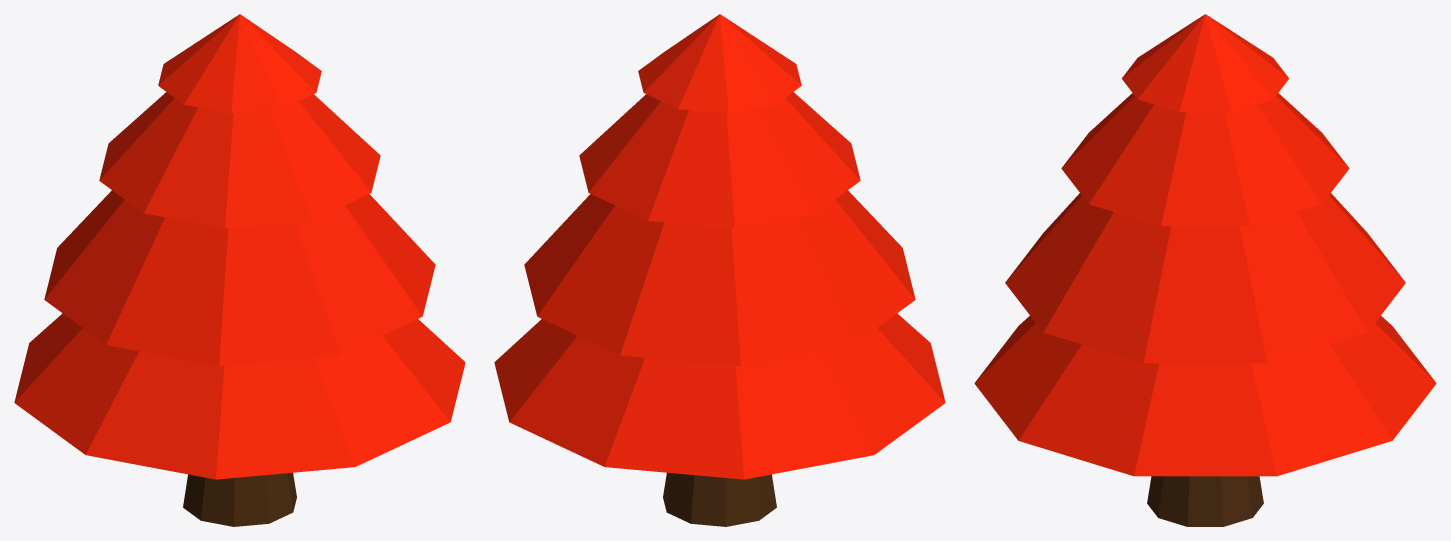
File: Short_Pine_003.fbx
3 views of the same model, side by side, from view 1: azimuth 30°, elevation 25°; view 2: azimuth 150°, elevation 25°; view 3: azimuth 270°, elevation 25° (orthographic).
Visible parts, largest first — view 1: Short Pine.003; view 2: Short Pine.003; view 3: Short Pine.003.
Boxes of the visible parts, x1=… form: Short Pine.003: x1=14, y1=14, x2=465, y2=526; Short Pine.003: x1=494, y1=14, x2=945, y2=526; Short Pine.003: x1=974, y1=14, x2=1436, y2=526.
Bounding box in the file's own units: 286 × 351 × 301.
